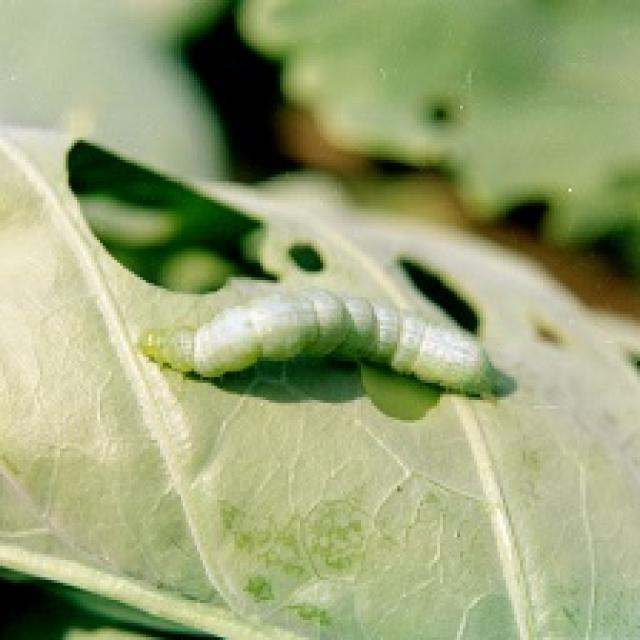Cabbage-worm: (124, 281, 498, 425)
